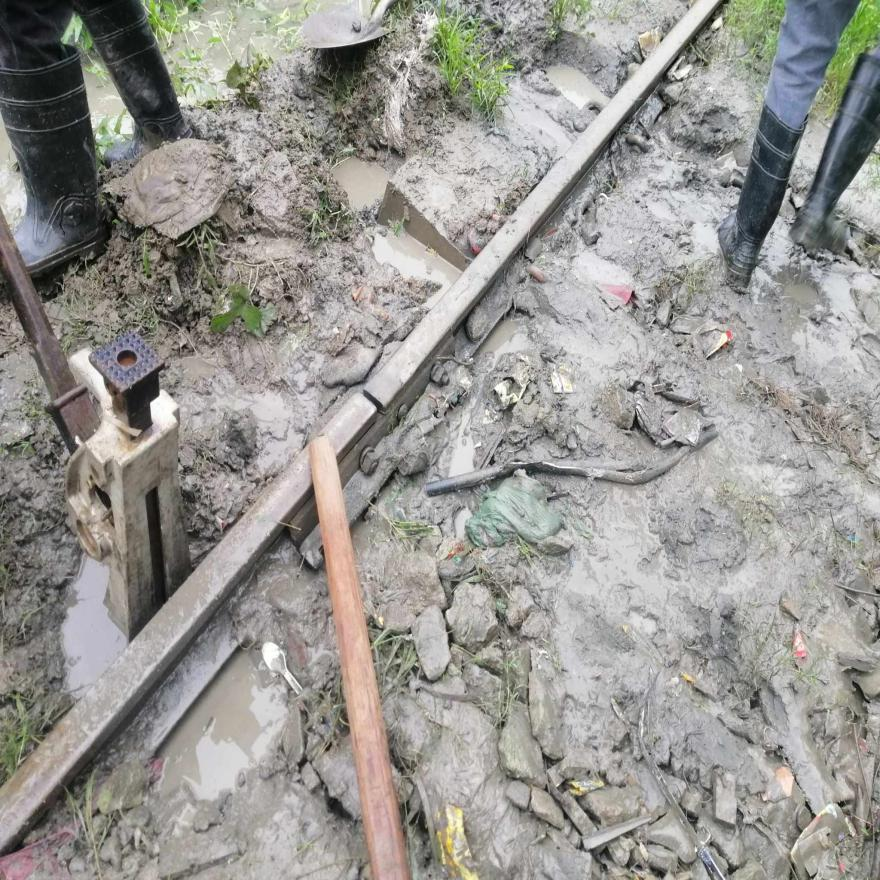railway-gap: (338, 357, 402, 448)
